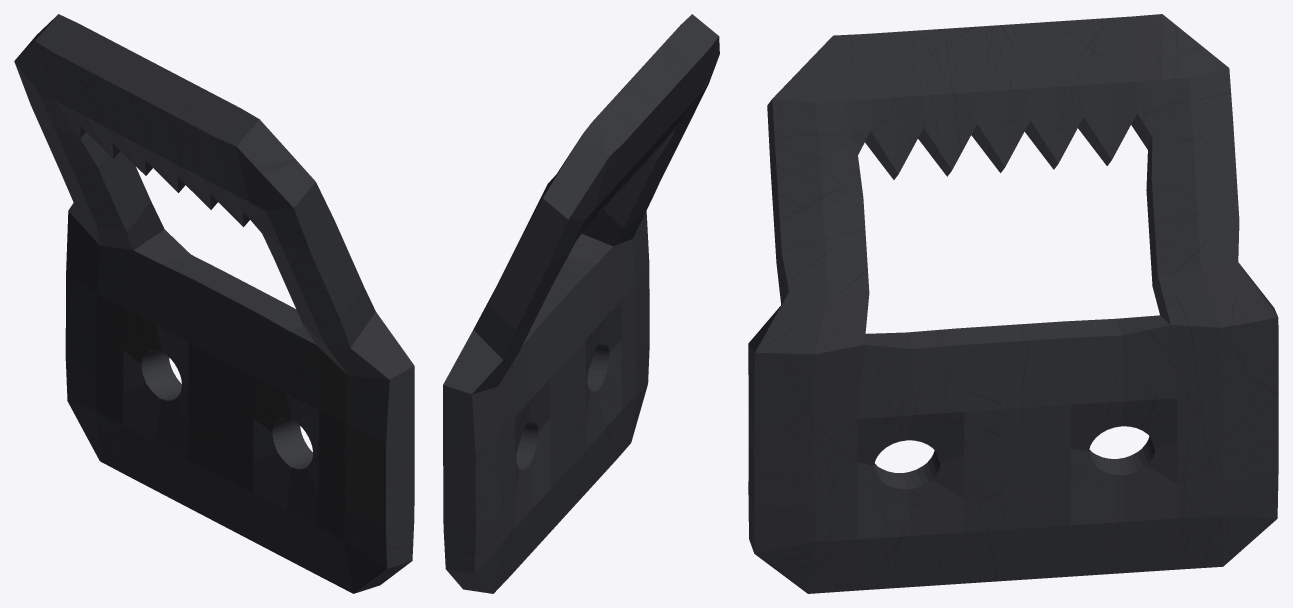
File: Frame_Hanger_1769256553708.glb
The picture shows the model from 3 angles, left to right: view 1: azimuth 30°, elevation 25°; view 2: azimuth 150°, elevation 25°; view 3: azimuth 270°, elevation 25°; orthographic projection. The views are drawn at different scales.
Visible parts, largest first — view 1: Backing Board; view 2: Backing Board; view 3: Backing Board.
Part boxes in pixels (box(x1,y1,x2,y2)): Backing Board: box(14, 14, 414, 593); Backing Board: box(443, 14, 719, 593); Backing Board: box(748, 14, 1278, 593).
Bounding box in the file's own units: 0.0893 × 0.222 × 0.2119.
1 material, 1 textured.
